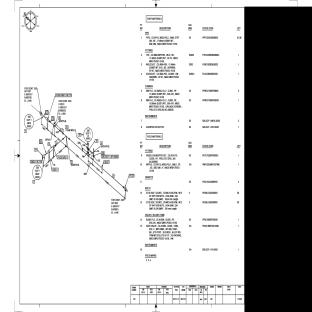support: (101, 166, 103, 171)
tee: (63, 133, 70, 139)
weld: (62, 132, 64, 135), (62, 138, 64, 140), (69, 137, 70, 140)
